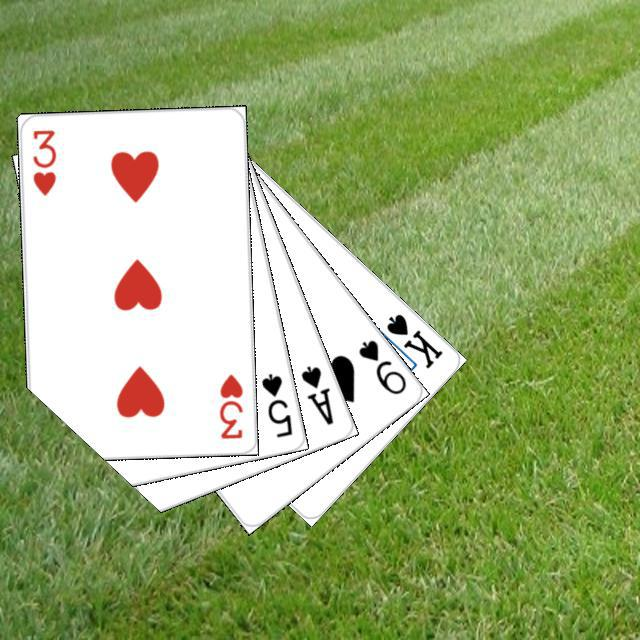3h: (27, 125, 58, 197), (214, 369, 244, 441)
5s: (256, 368, 294, 440)
9s: (353, 335, 408, 397)
As: (296, 360, 335, 427)
Ks: (381, 309, 444, 371)
